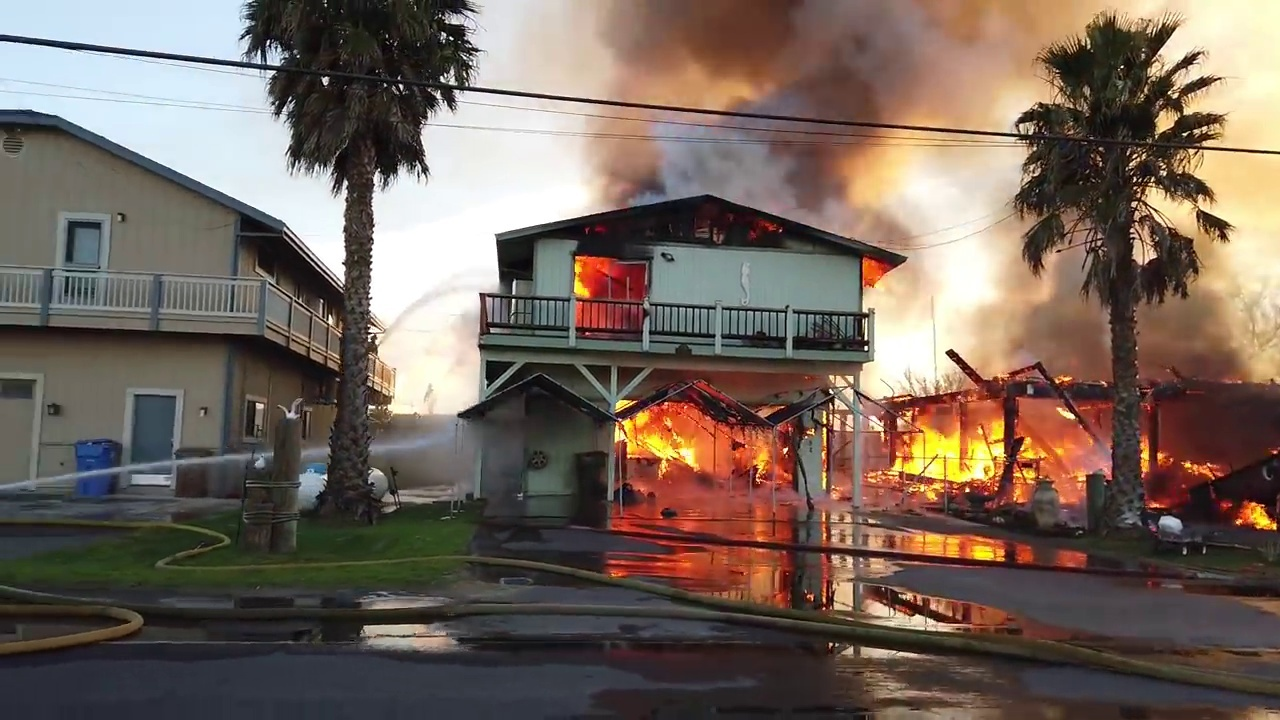fire: (373, 163, 552, 416), (892, 414, 1044, 487), (1222, 492, 1279, 533), (689, 208, 743, 240), (750, 210, 783, 235)
smoke: (573, 3, 1016, 207)
